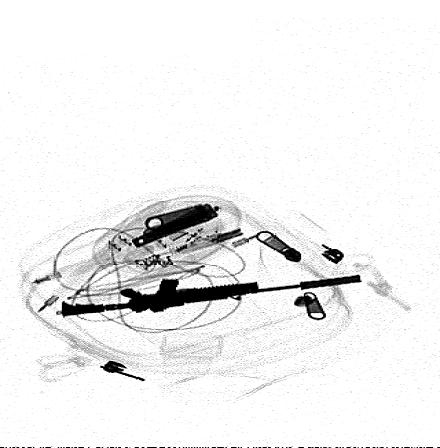Gun: (61, 274, 365, 318)
